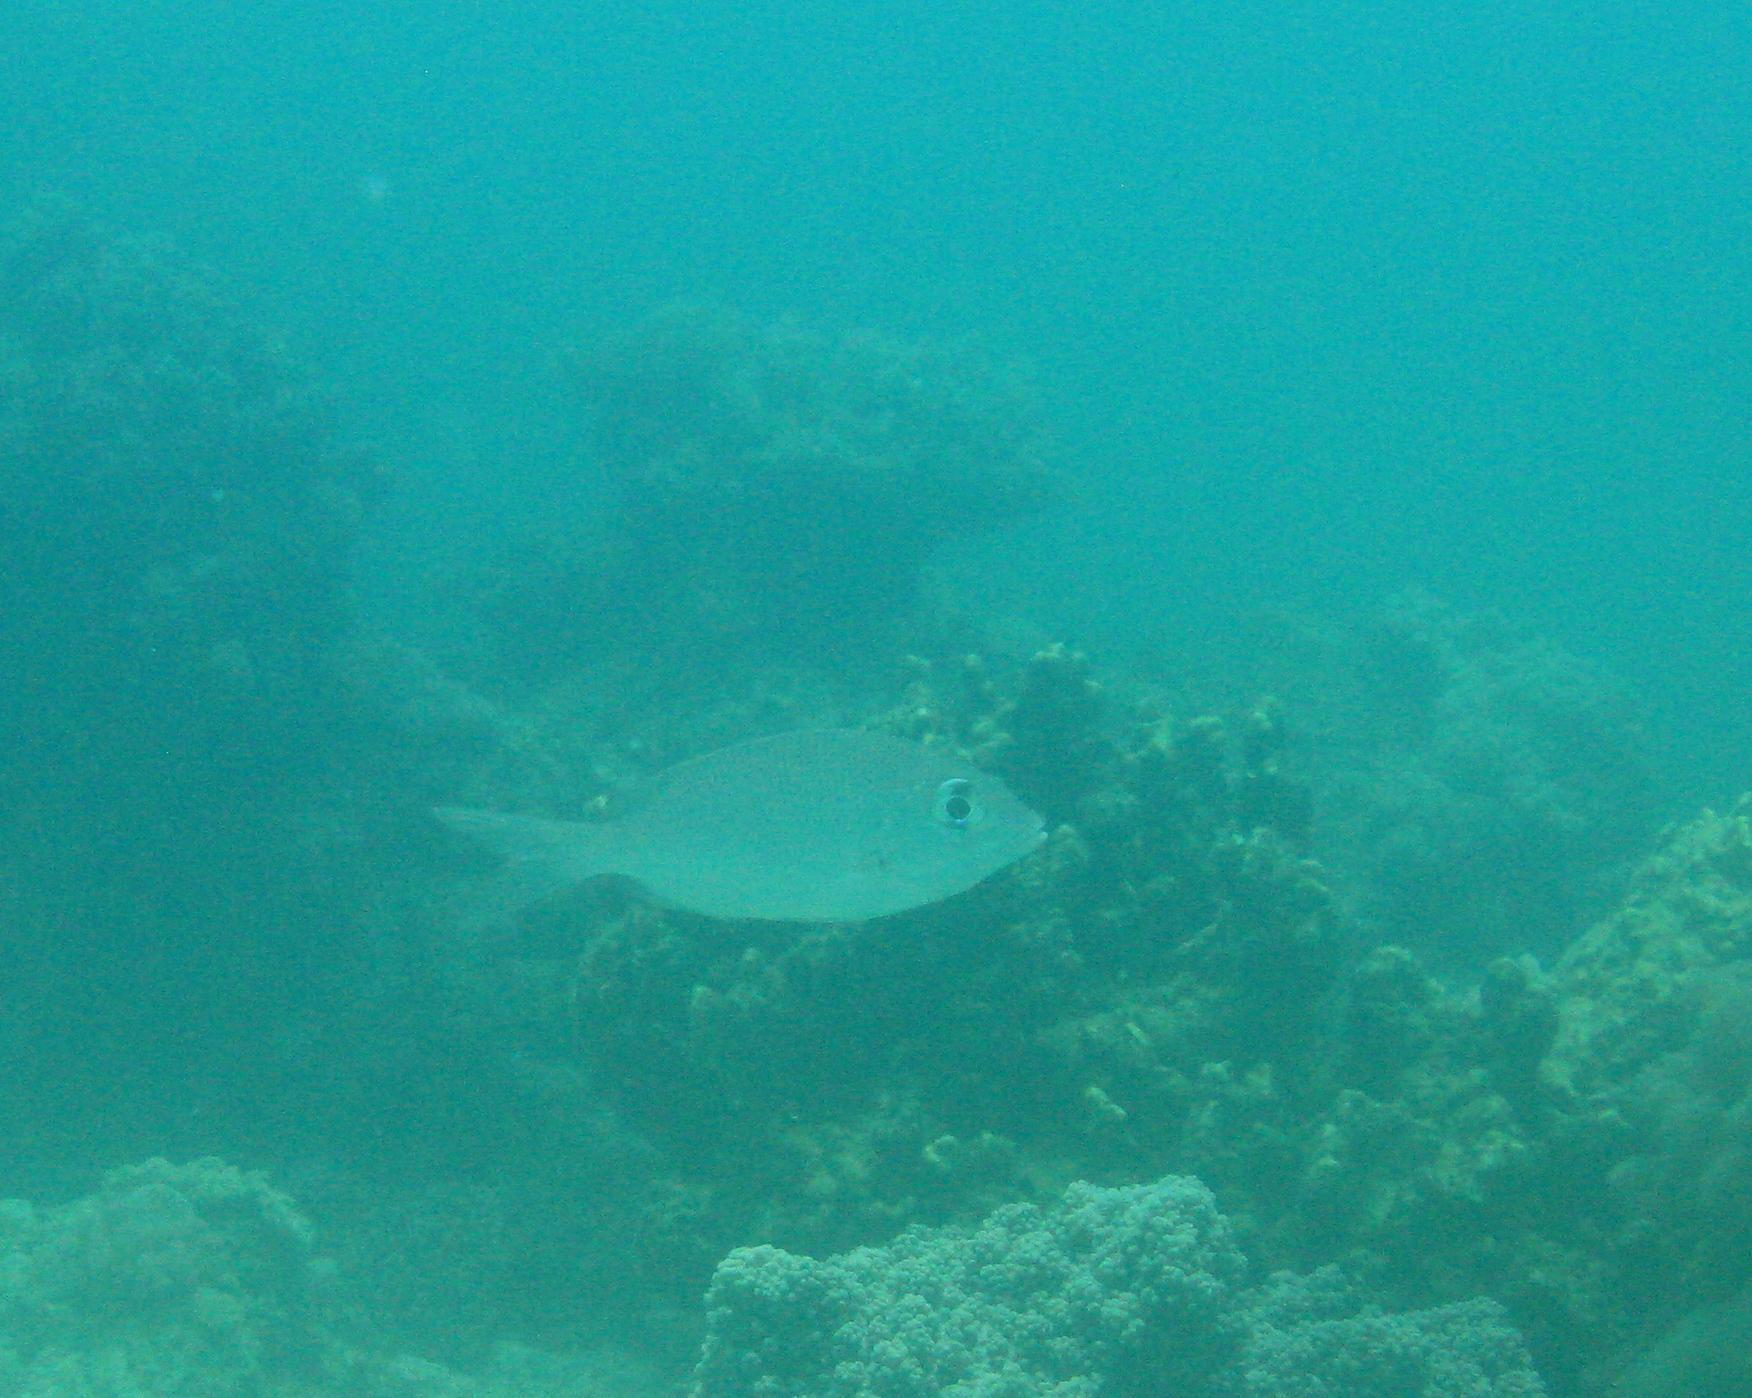Fish: (378, 715, 1076, 954)
